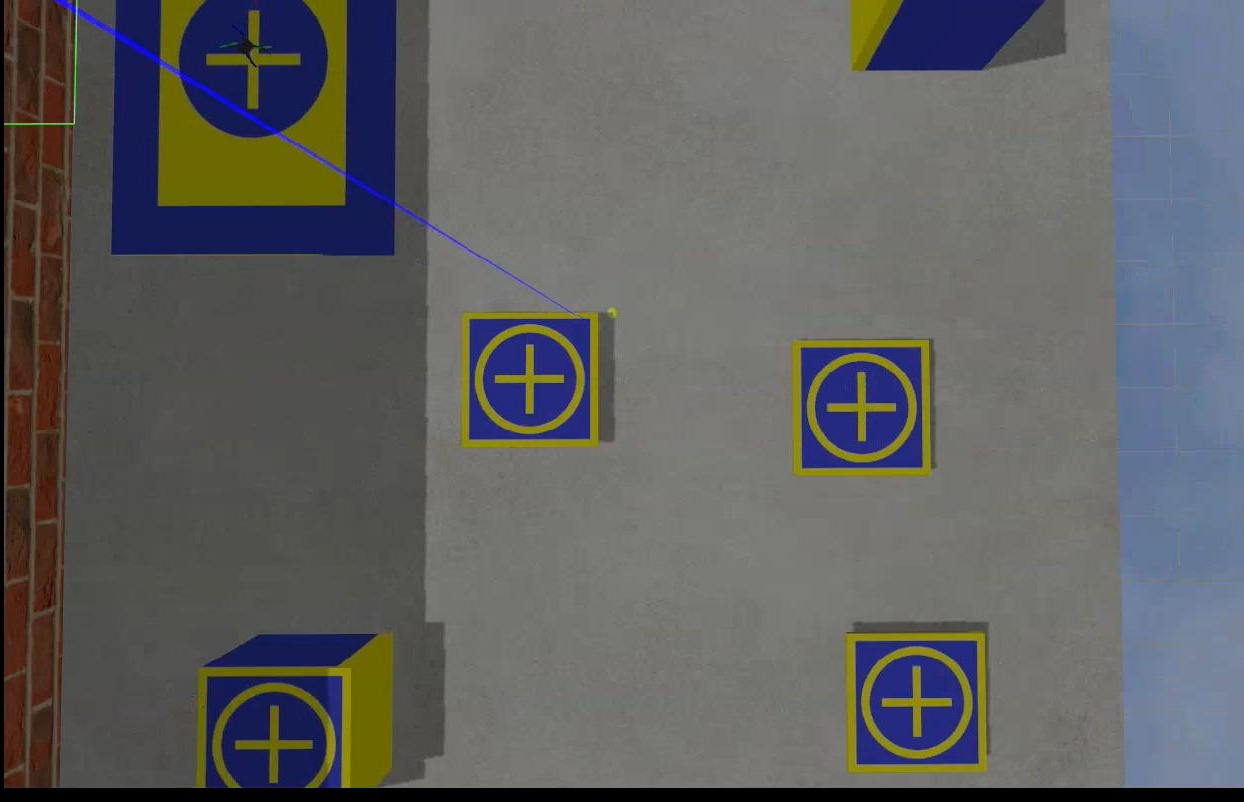large_base: (106, 1, 395, 259)
small_base: (841, 631, 986, 776), (790, 340, 932, 482), (458, 310, 602, 450), (200, 662, 352, 791)
